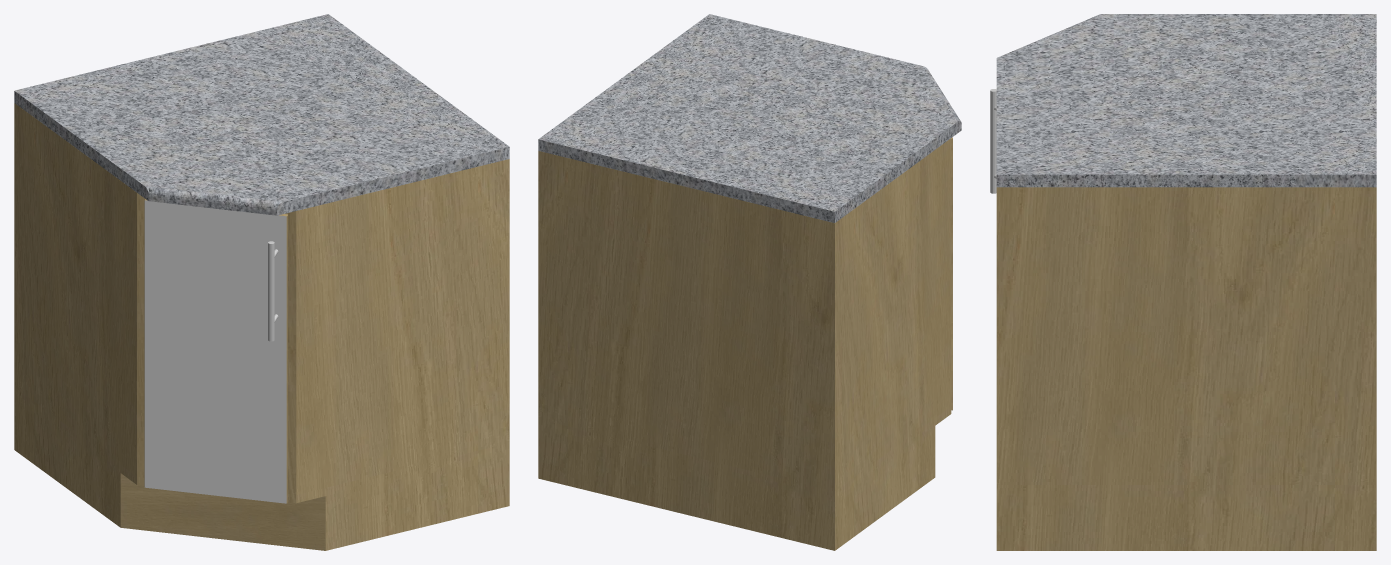
The model's file is b0-lowercornercabinet.glb.
3 views of the same model, side by side, from view 1: azimuth 30°, elevation 25°; view 2: azimuth 150°, elevation 25°; view 3: azimuth 270°, elevation 25° (orthographic). The views are drawn at different scales.
Parts seen in each view (by area): view 1: Cube.001; view 2: Cube.001; view 3: Cube.001.
Part boxes in pixels (left/top/right/bottom): Cube.001: left=14, top=14, right=509, bottom=550; Cube.001: left=538, top=14, right=961, bottom=550; Cube.001: left=990, top=14, right=1376, bottom=550.
Size of the model in its own units: 0.81 by 0.885 by 0.823.
4 materials, 2 textured.
